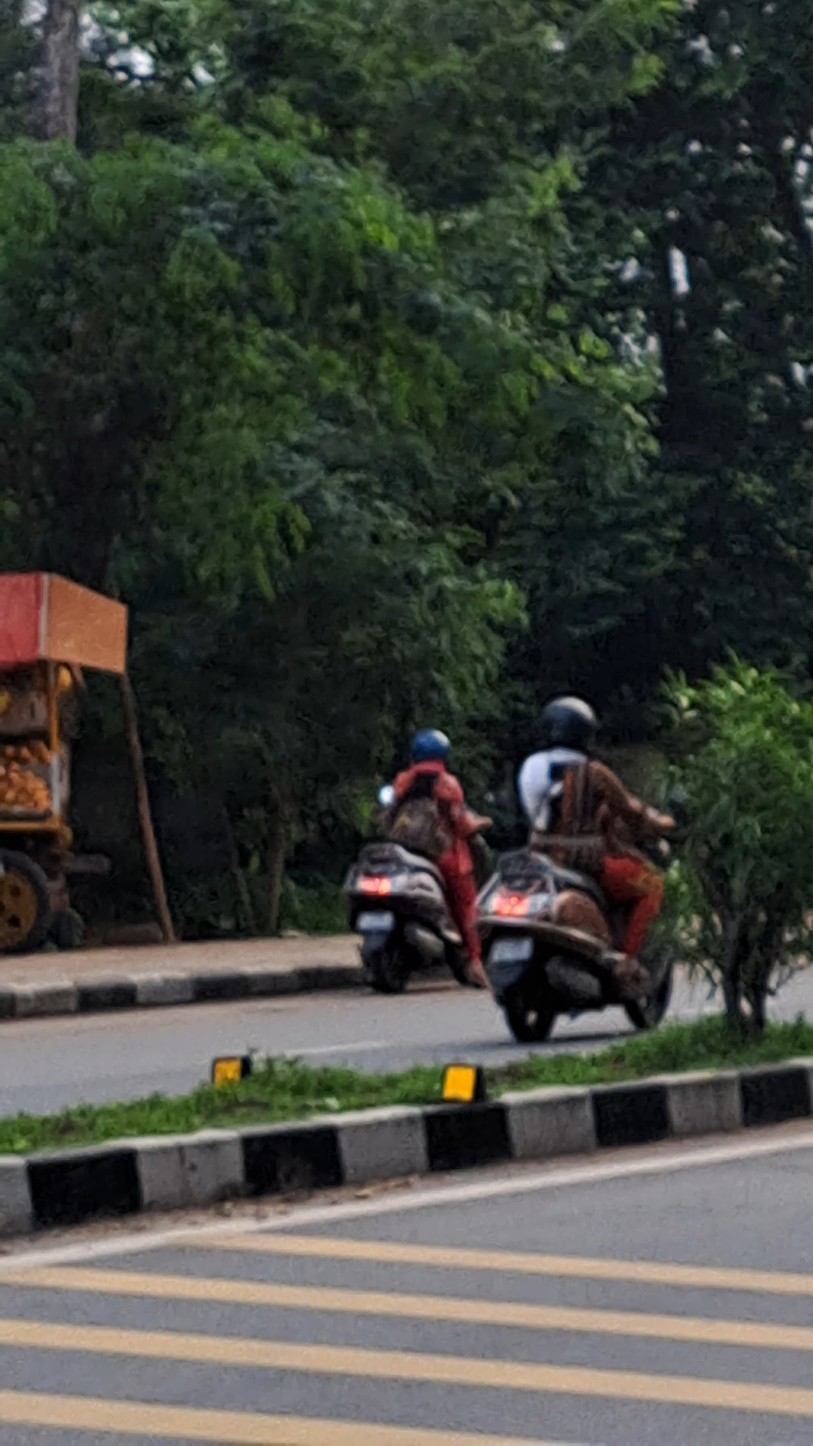BikeWithRider: (469, 691, 690, 1052), (335, 719, 497, 1002)
Helmet: (540, 693, 603, 770), (409, 721, 456, 773)
